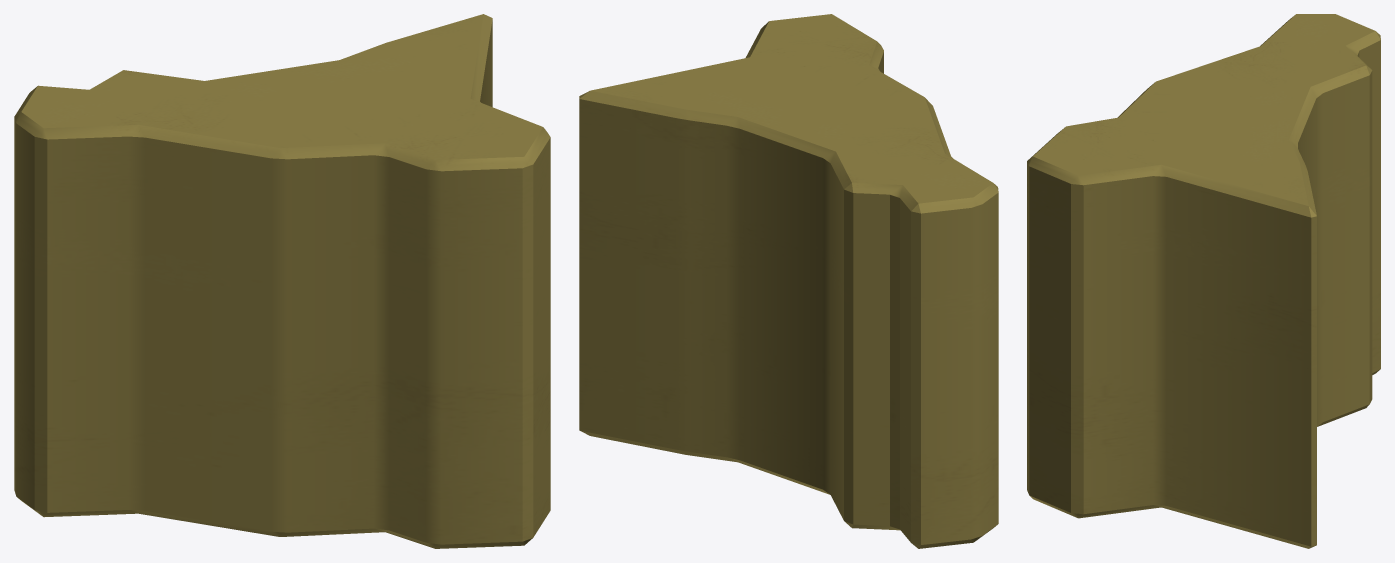
File: sicily.DAE
The picture shows the model from 3 angles, left to right: view 1: azimuth 30°, elevation 25°; view 2: azimuth 150°, elevation 25°; view 3: azimuth 270°, elevation 25°; orthographic projection. The views are drawn at different scales.
Parts seen in each view (by area): view 1: Sicily; view 2: Sicily; view 3: Sicily.
Boxes of the visible parts, x1=… form: Sicily: x1=14, y1=14, x2=550, y2=548; Sicily: x1=579, y1=14, x2=998, y2=548; Sicily: x1=1027, y1=14, x2=1380, y2=548.
Bounding box in the file's own units: 31.29 × 23.4 × 25.
Materials: 1 (1 with a texture image).
